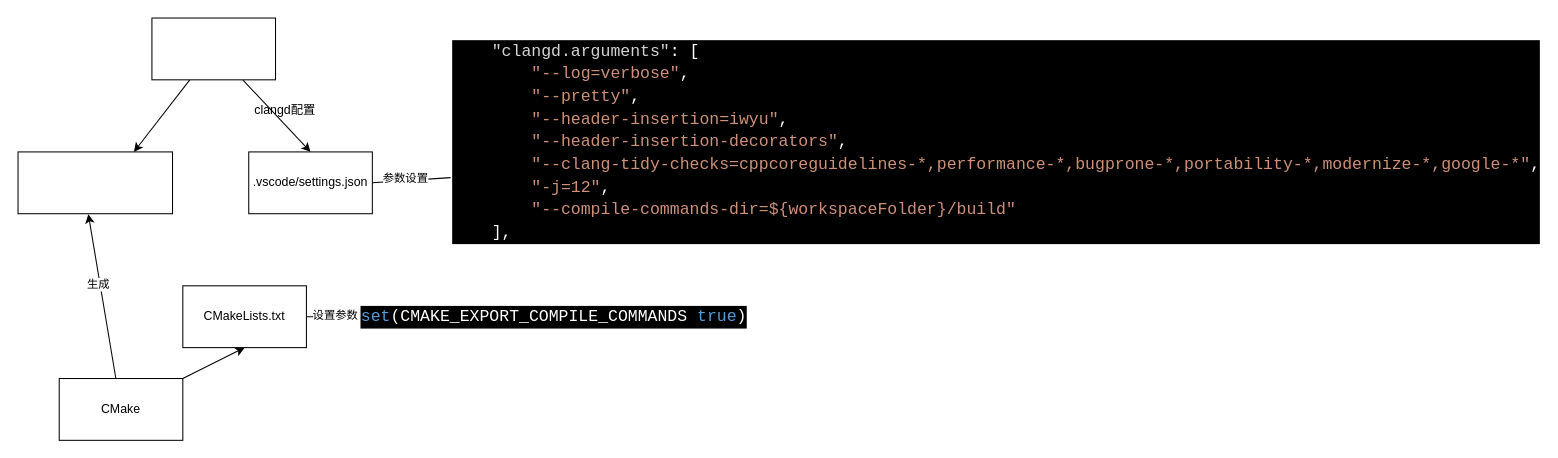
Some shapes in this 1558 by 458 pixel diagram are drawn without their labels. Each missing label, with the centre of its shape:
"Clangd Plugin" belongs at (213,48).
"compile_commands.json 编译数据库" belongs at (95,182).
